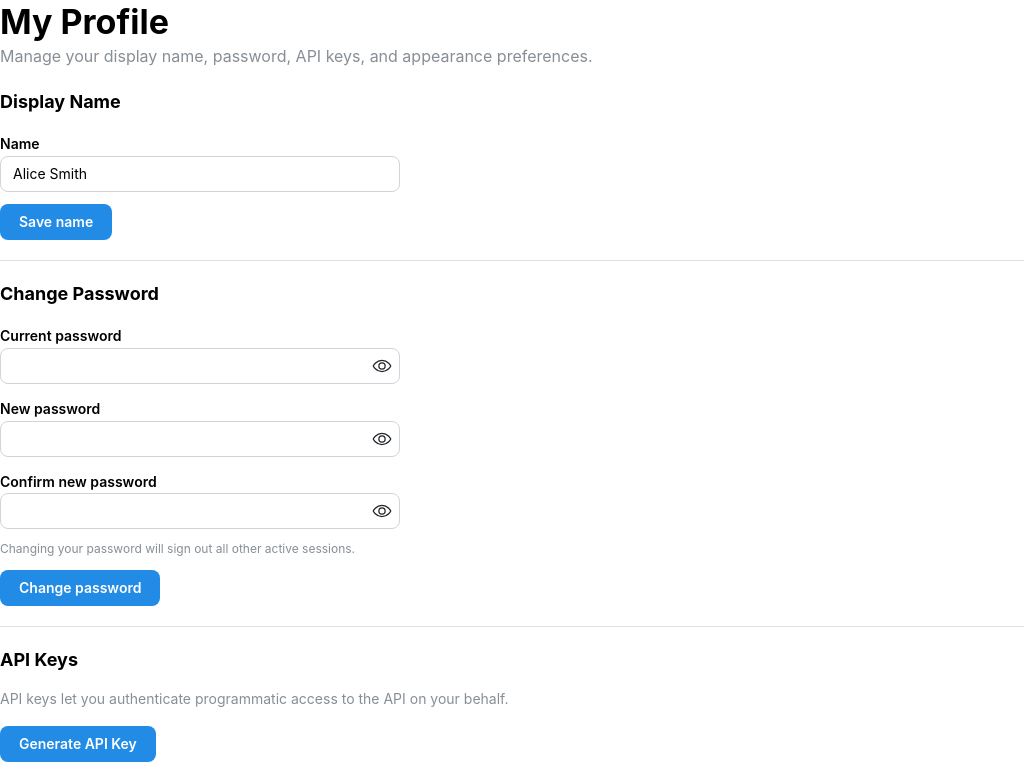
Test case: PM13-01-B — ProfilePage API Keys section › raw key reveal modal opens with the returned key after generating
Note: Open the generate modal
Click the button "Generate API Key". click: [78, 744]
box: [0,726,156,762]
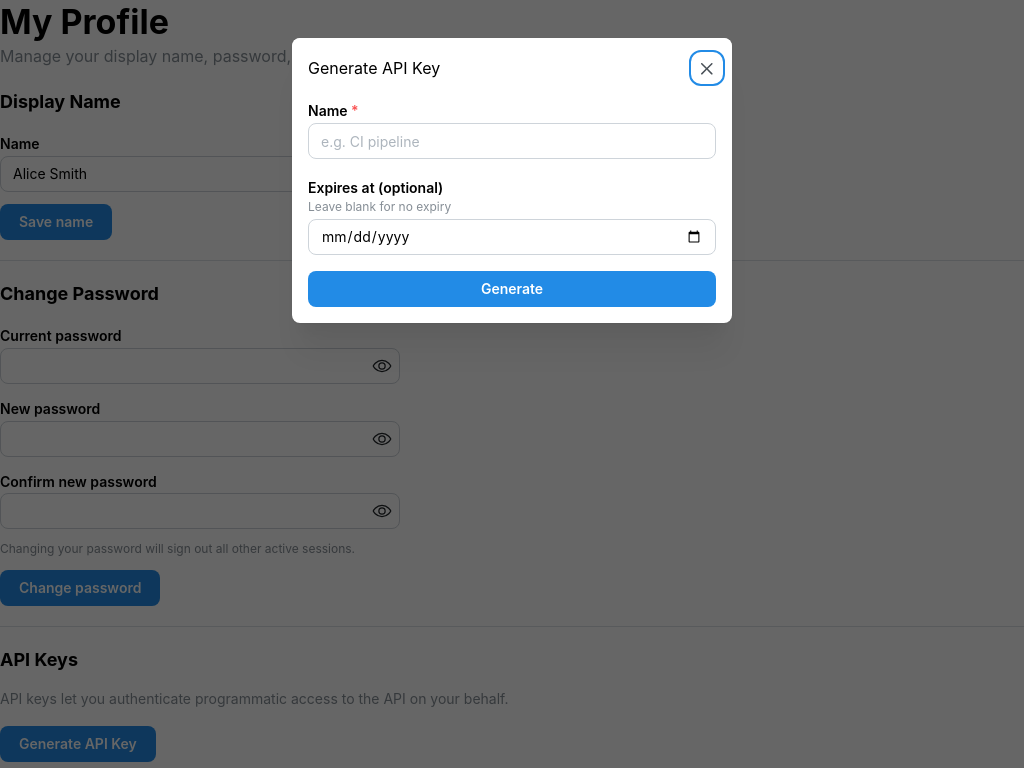
Result: the dialog is shown at [292,38,732,323]
Type "My test key" into the field with test id "api-key-name-input". click: [512, 141]
box: [308,123,716,159]
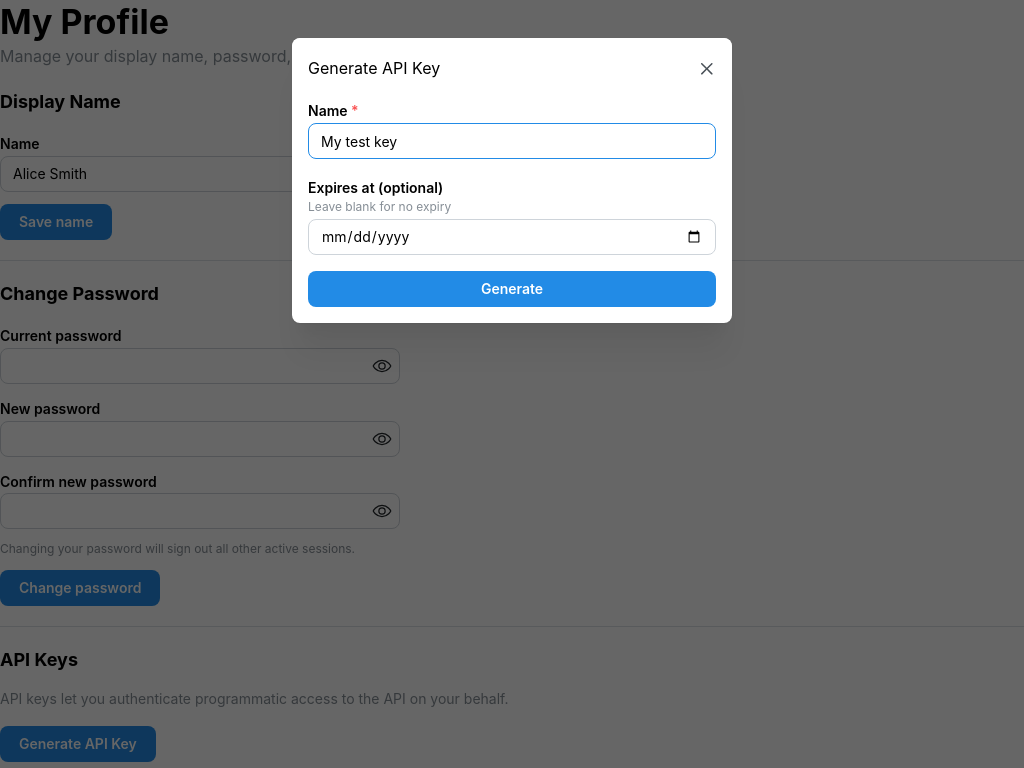
Click the button "Generate". click: [512, 289]
box: [308,271,716,307]
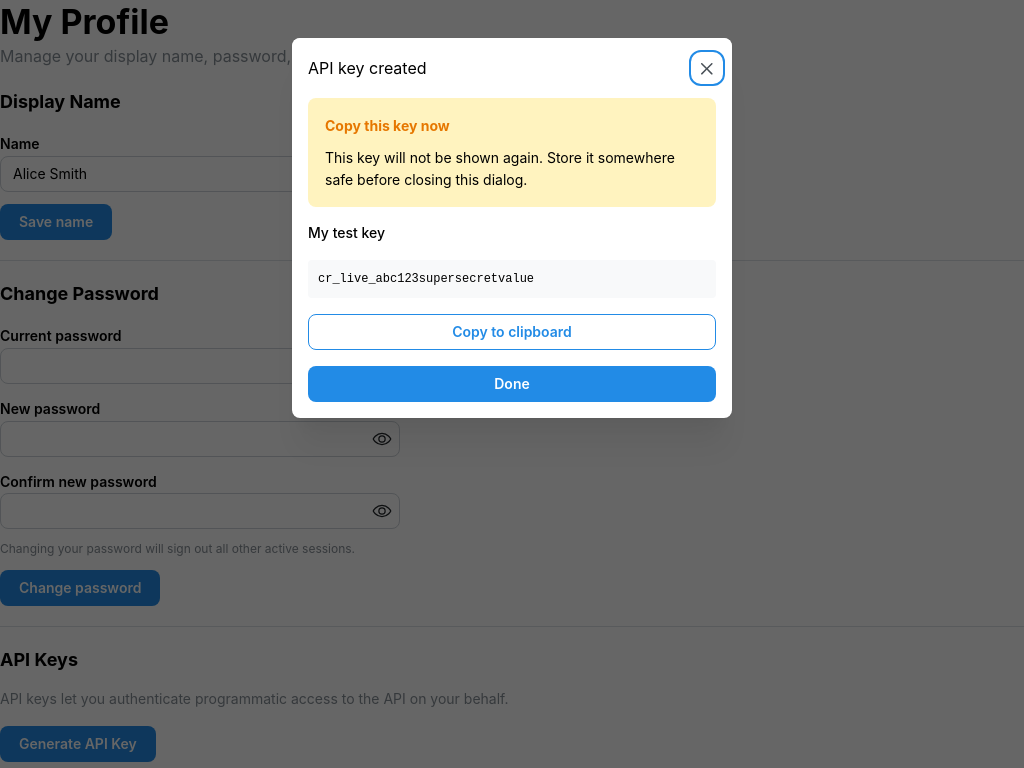
Result: the text "cr_live_abc123supersecretvalue" is shown at [308,260,716,298]
Result: the text "Copy this key now" is shown at [325,115,450,137]
Result: the text "not be shown again" is shown at [325,149,675,188]
